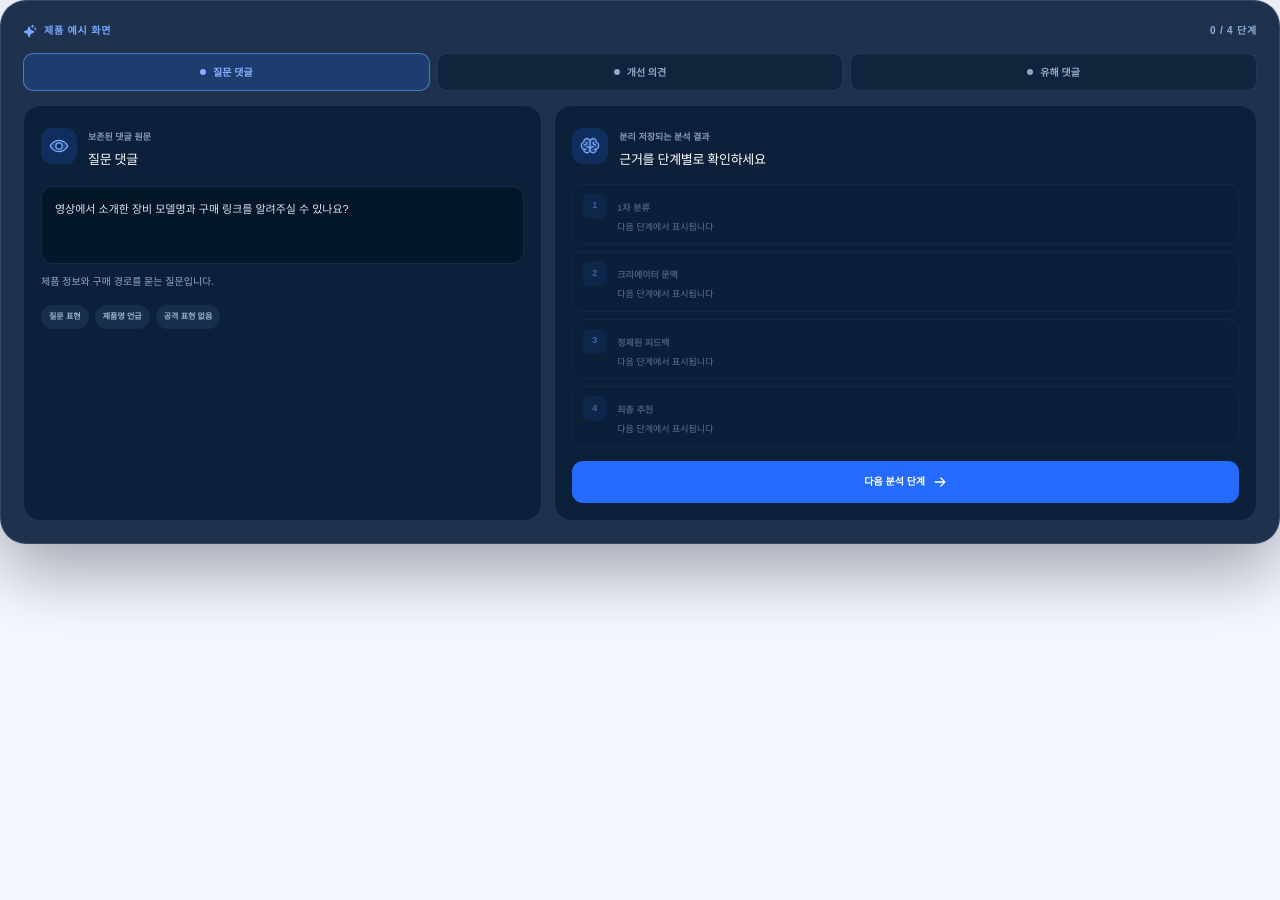
Test: InteractiveAnalysisDemo › progresses deterministically to an advisory sign-in state
Check: the text "0 / 4 단계" is shown, box [1210,23,1257,38]
Click the button "다음 분석 단계" at (906, 482), box [572,460,1239,502]
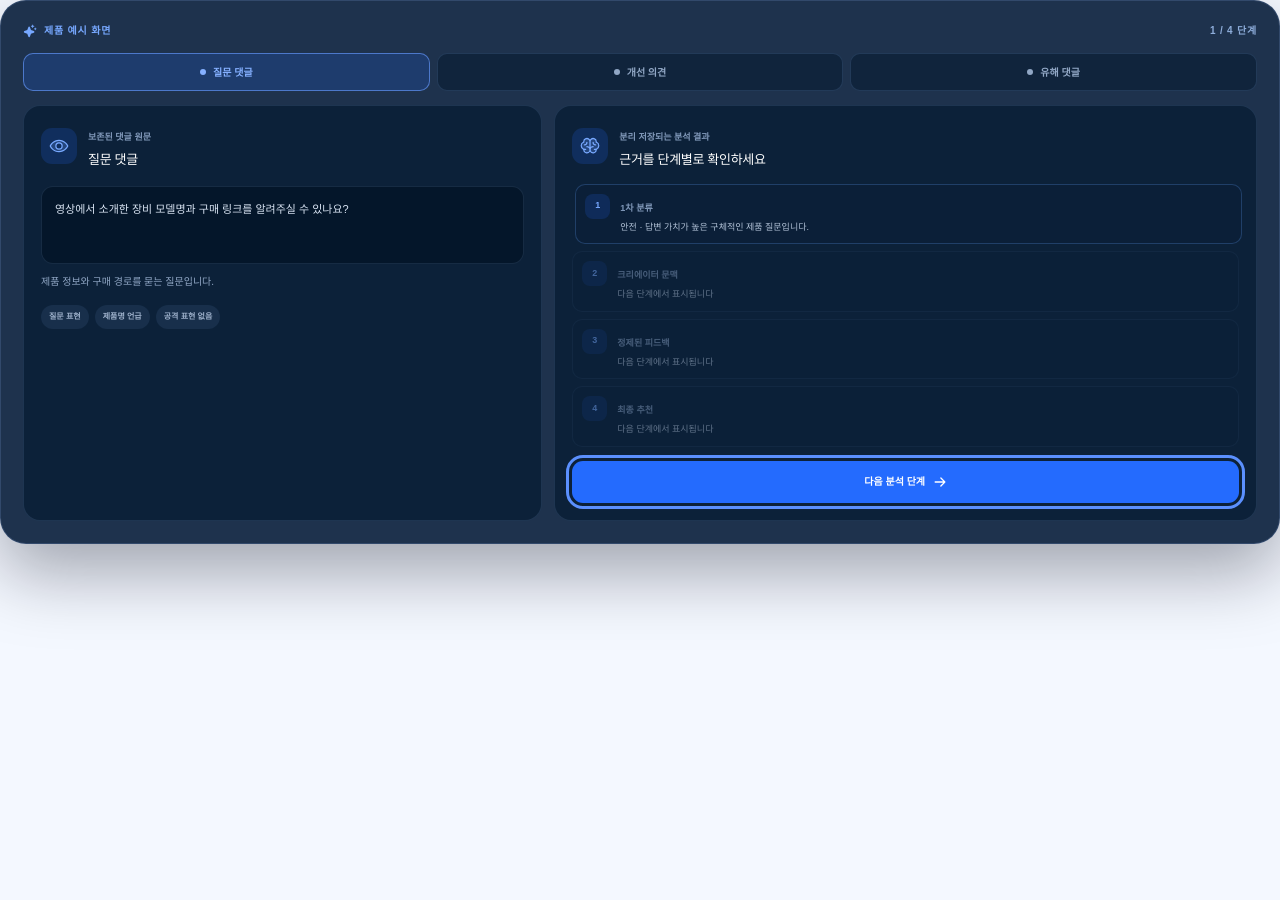
Click the button "다음 분석 단계" at (906, 482), box [572,460,1239,502]
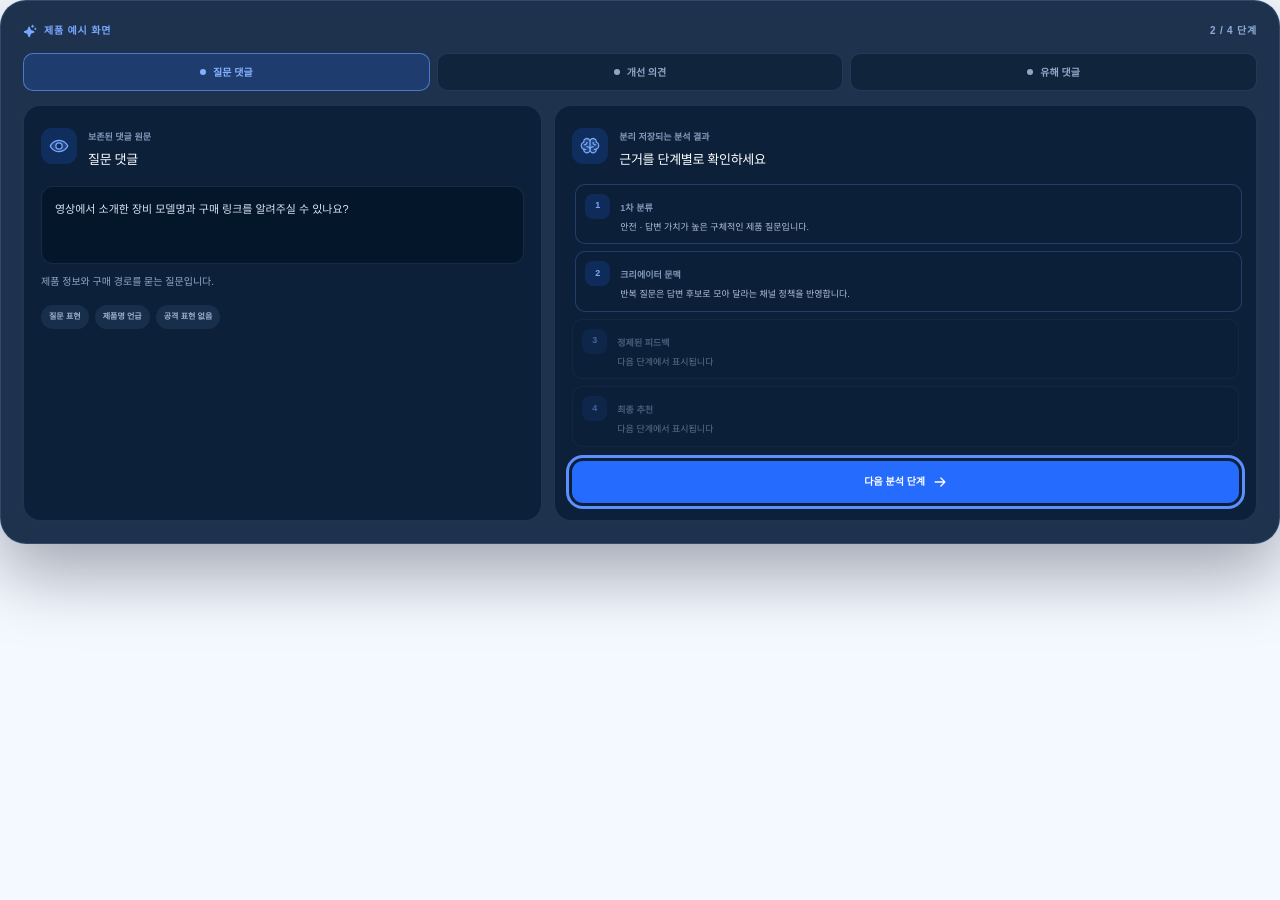
Click the button "다음 분석 단계" at (906, 482), box [572,460,1239,502]
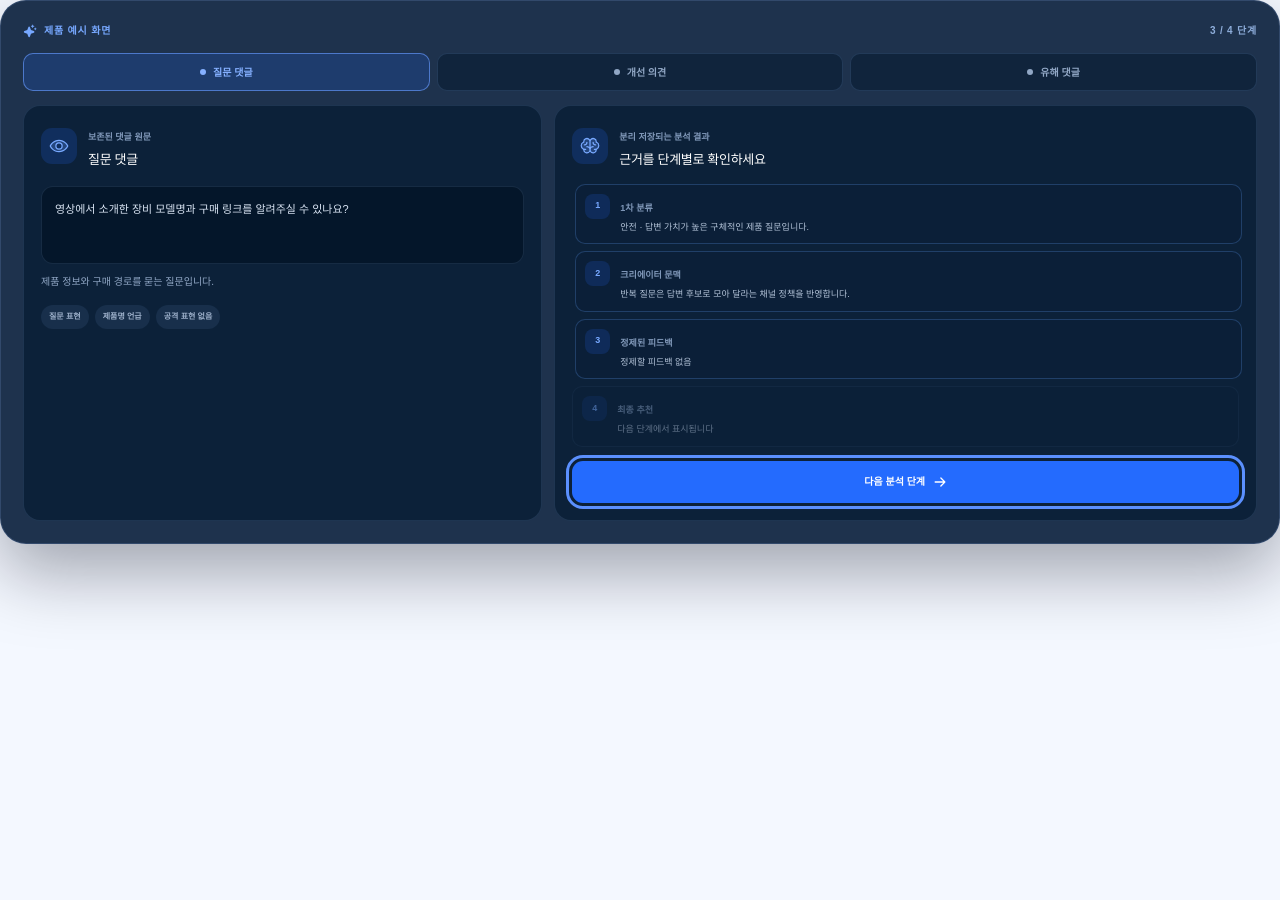
Click the button "다음 분석 단계" at (906, 482), box [572,460,1239,502]
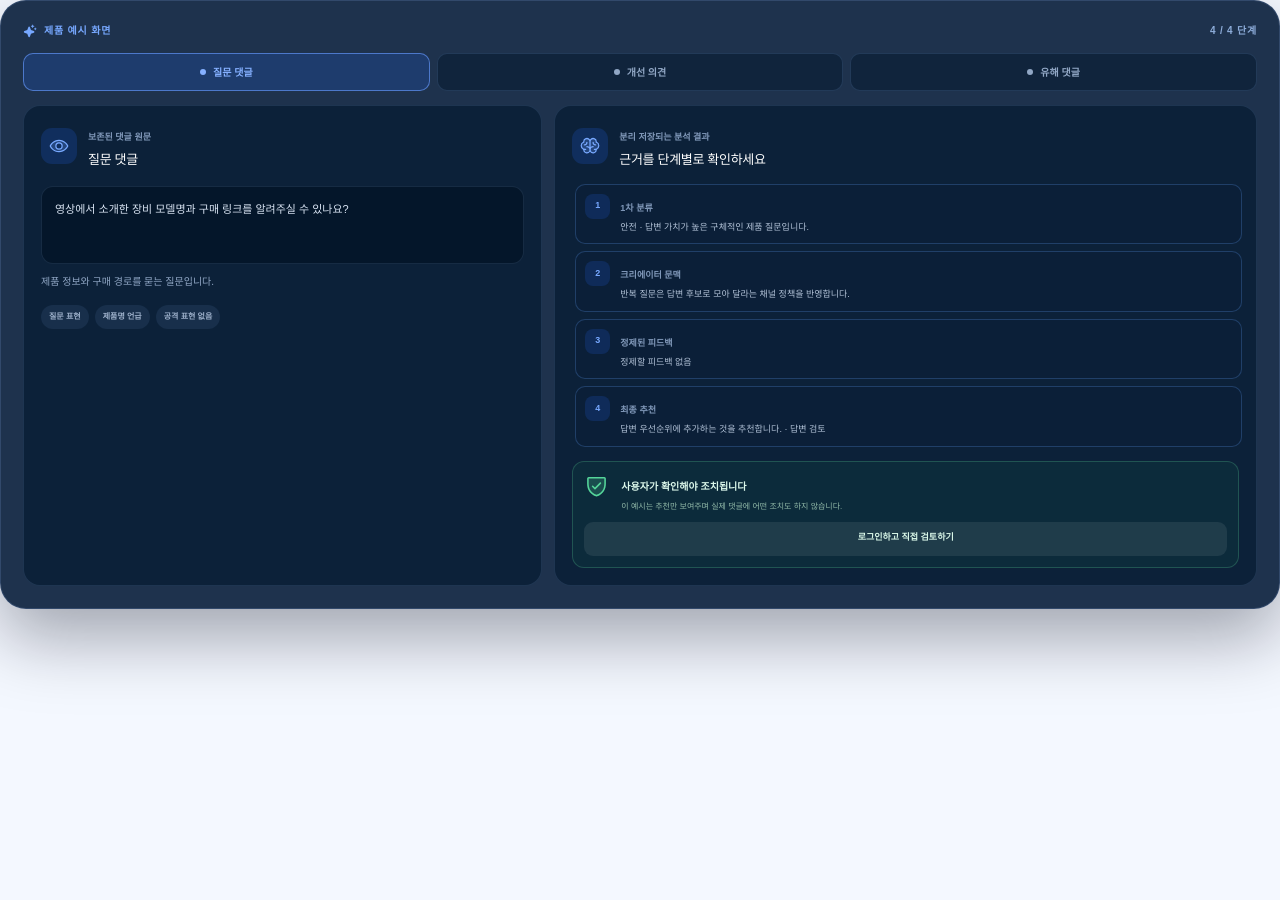
Check: the text "사용자가 확인해야 조치됩니다" is shown, box [621,480,746,492]
